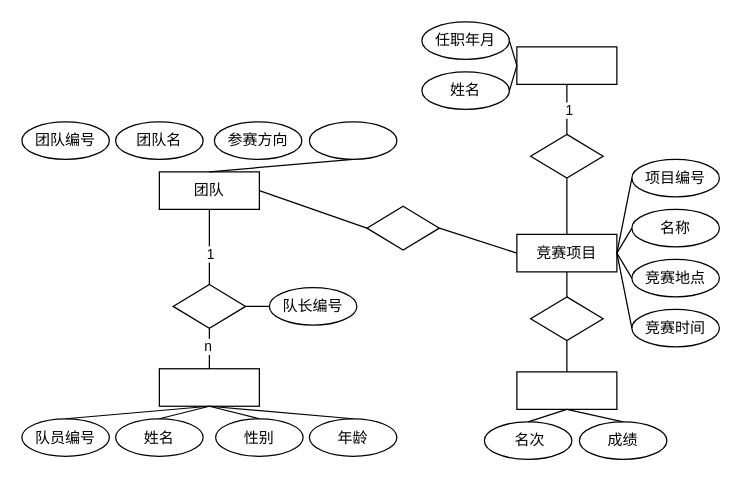
Image size: 741x481. Some labels were removed from this diagram. Each missing label, with the centre of its shape:
人数: the point at 352,140
公布: the point at 566,318
参与: the point at 209,305
参加: the point at 402,227
参赛结果: the point at 566,390
负责: the point at 566,155
队员: the point at 208,387
项目负责人: the point at 566,65
